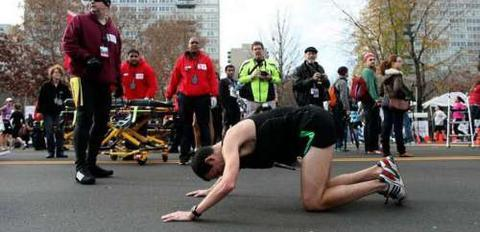10+: (1, 1, 480, 184)
down: (159, 103, 409, 226)
